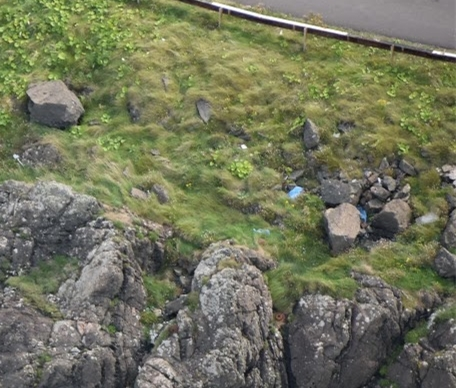white_in_green: (272, 169, 323, 217), (344, 193, 389, 237)
